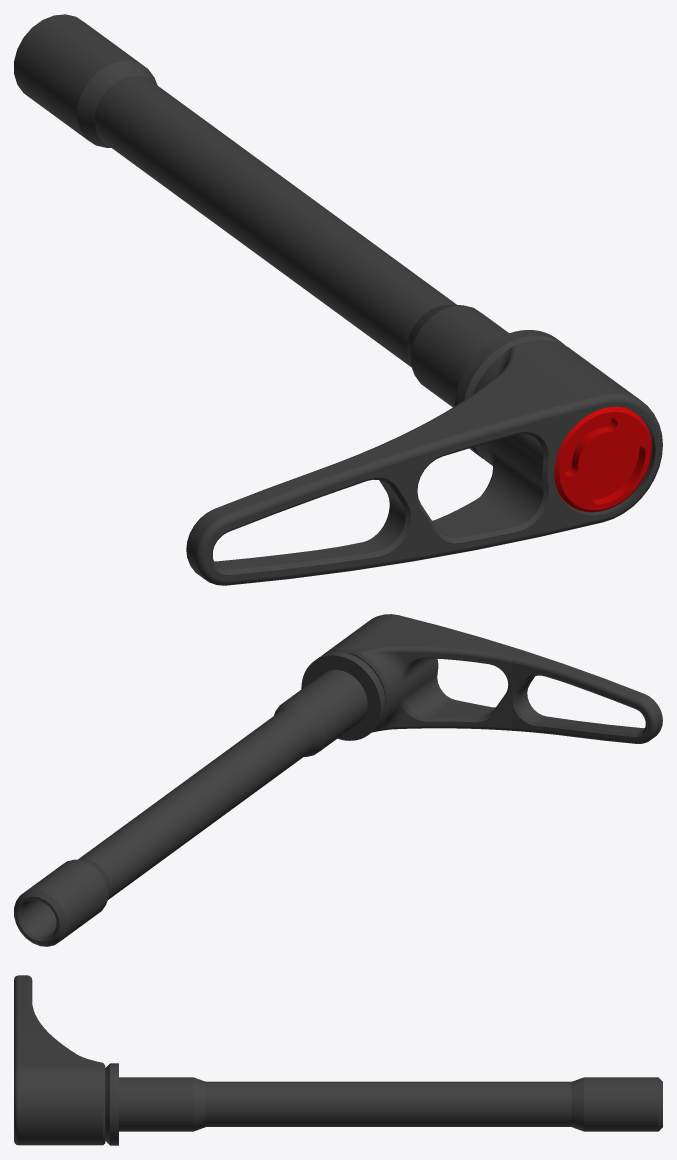
The model's file is front_axle.obj.
The picture shows the model from 3 angles, top to bottom: view 1: azimuth 30°, elevation 25°; view 2: azimuth 150°, elevation 25°; view 3: azimuth 270°, elevation 25°; orthographic projection. The views are drawn at different scales.
Visible parts, largest first — view 1: Solid1, Solid1:1, Solid1:2; view 2: Solid1, Solid1:1, Solid1:4; view 3: Solid1, Solid1:1, Solid1:4.
Part boxes in pixels (<box>): Solid1: <box>14,14,565,458</box>; Solid1:1: <box>186,340,662,585</box>; Solid1:2: <box>554,406,651,512</box>; Solid1: <box>14,651,385,946</box>; Solid1:1: <box>322,614,662,743</box>; Solid1:4: <box>301,653,383,740</box>; Solid1: <box>105,1063,662,1145</box>; Solid1:1: <box>14,975,105,1145</box>; Solid1:4: <box>114,1063,118,1145</box>.
Size of the model in its own units: 0.069 by 0.018 by 0.142.
